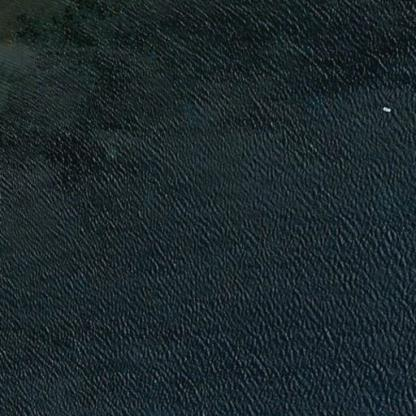ship: (381, 104, 390, 112)
